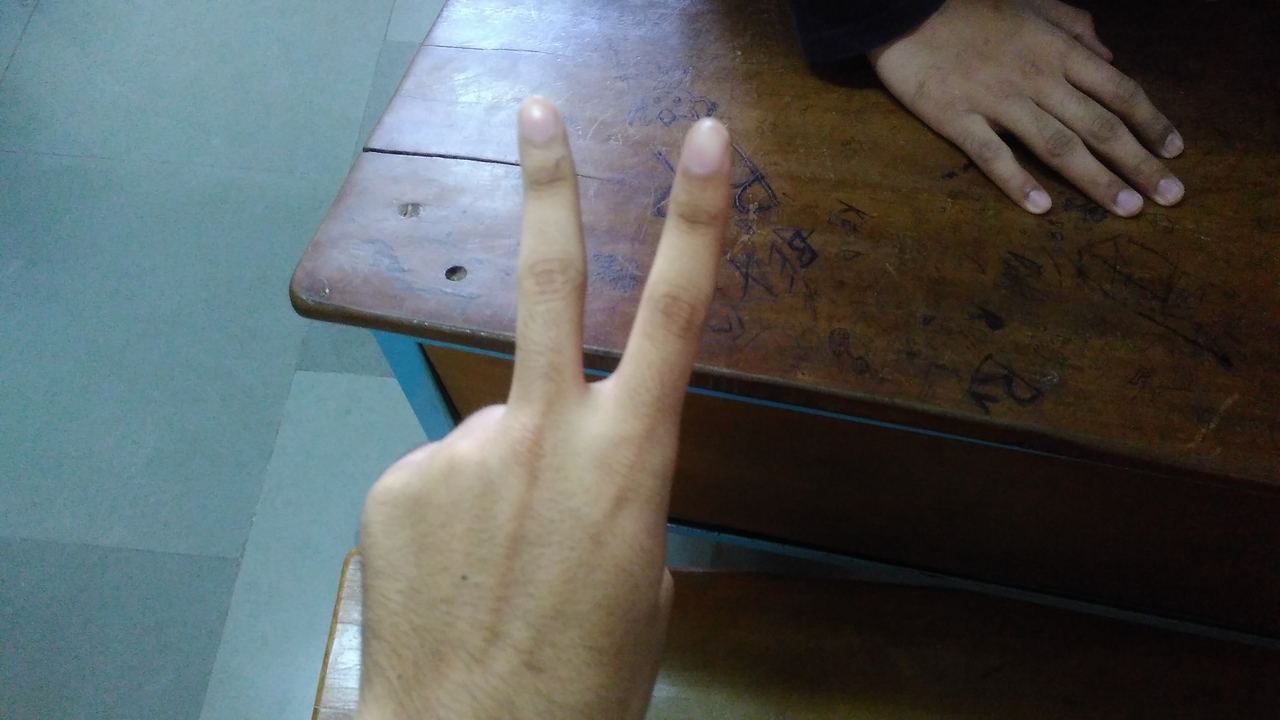fingertip: (676, 108, 738, 174), (510, 90, 568, 148)
